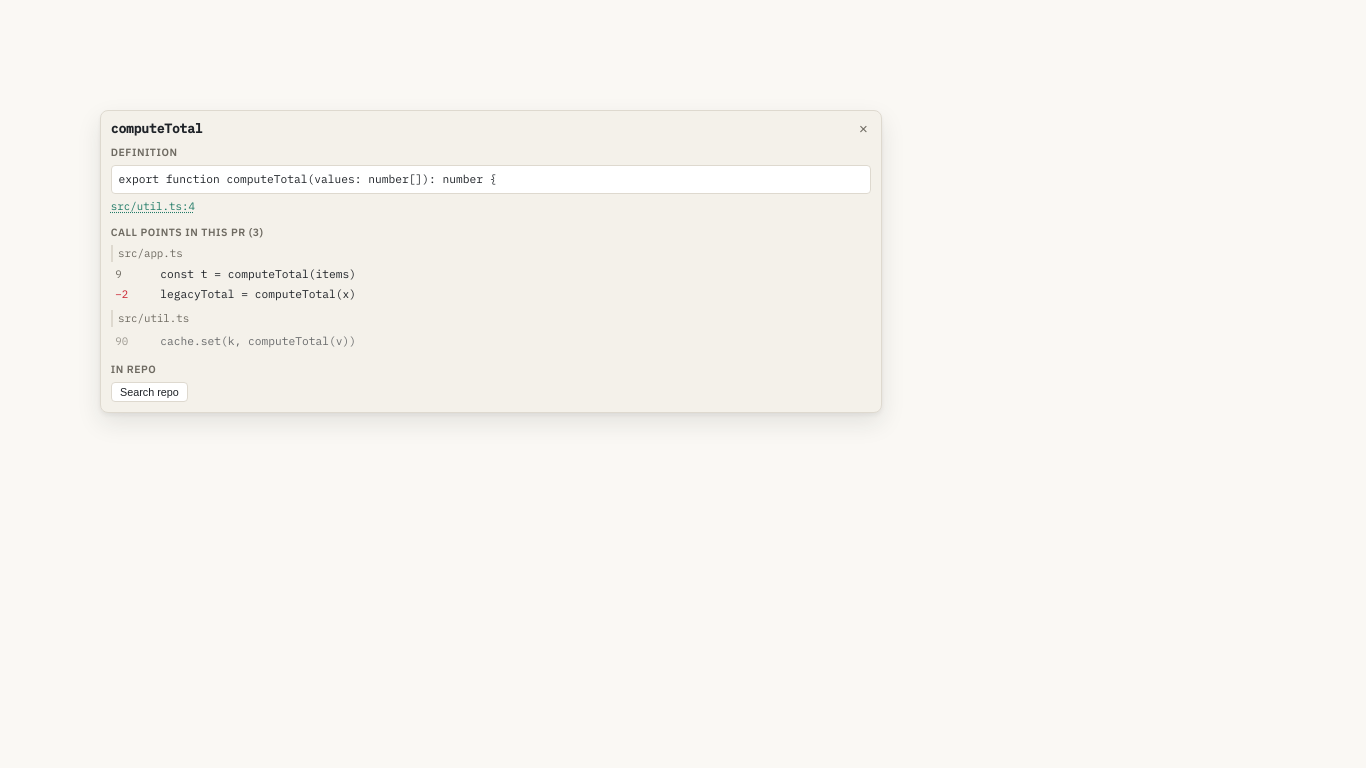
Test: SymbolPopover — In repo section › surfaces a search error and keeps the button for retry
The image size is (1366, 768).
Click the button "Search repo": (149, 392) 111,382 -> 188,402
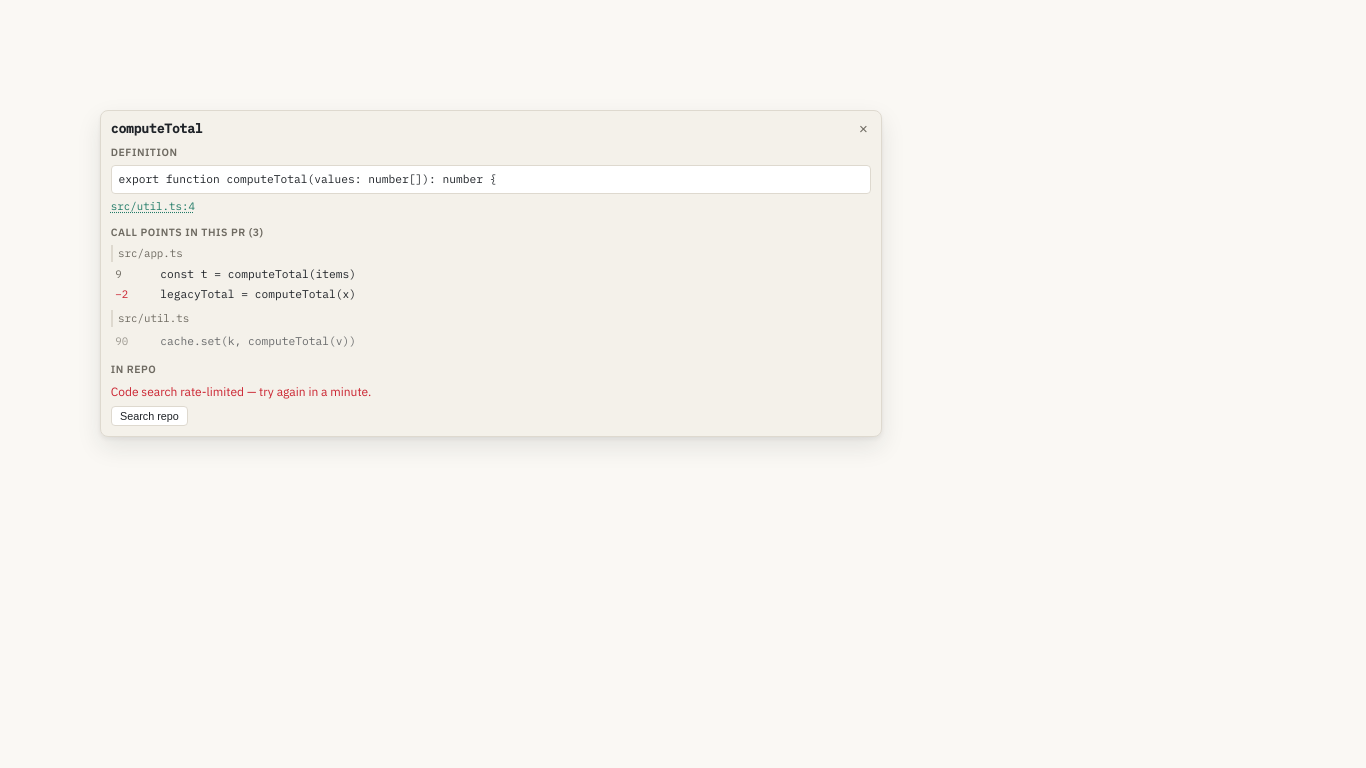
expect the button "Search repo" is shown: met, box 111,406 -> 188,426
expect the message reads "Code search rate-limited — try again in a minute.": met, box 111,384 -> 371,399
